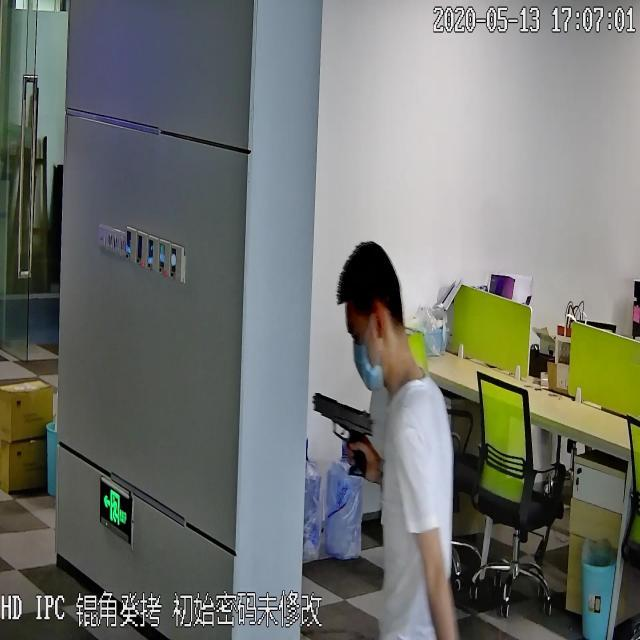gun: (310, 384, 376, 484)
